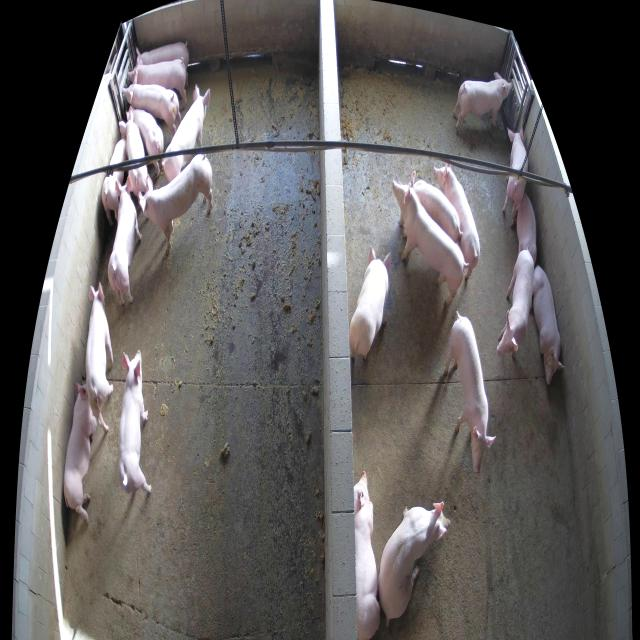pig: (393, 180, 468, 305), (379, 500, 449, 623), (446, 310, 496, 473), (138, 155, 213, 253), (433, 163, 480, 278), (117, 350, 152, 493), (349, 246, 391, 360), (162, 84, 210, 182), (63, 382, 96, 523), (354, 473, 381, 639), (108, 176, 142, 305), (86, 282, 113, 432), (497, 249, 534, 356), (532, 267, 563, 383), (411, 170, 459, 244), (453, 73, 512, 131), (122, 84, 181, 136), (127, 59, 187, 109), (118, 105, 147, 196), (136, 41, 190, 87), (502, 127, 528, 220), (102, 136, 126, 225), (133, 110, 164, 177), (511, 193, 537, 267)
